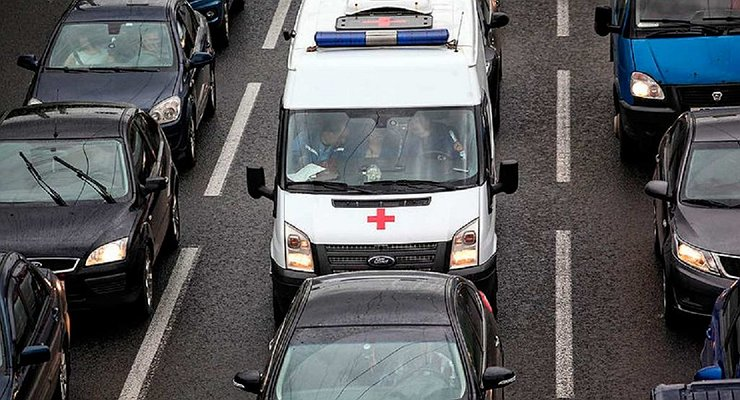passenger: (4, 101, 184, 312), (23, 1, 216, 164), (651, 107, 740, 338)
special: (259, 2, 505, 299)
